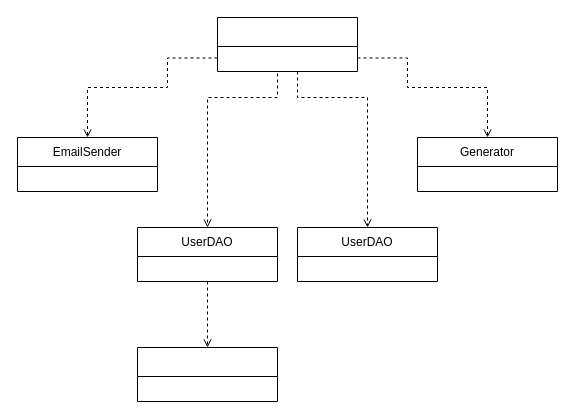
The diagram is 575 pixels wide and 419 high, and some of its shapes have lost their labels. The centre of each missing label's shape, as x and y in pixels:
"LogController" belongs at pixel 287 44.
"User" belongs at pixel 207 374.
